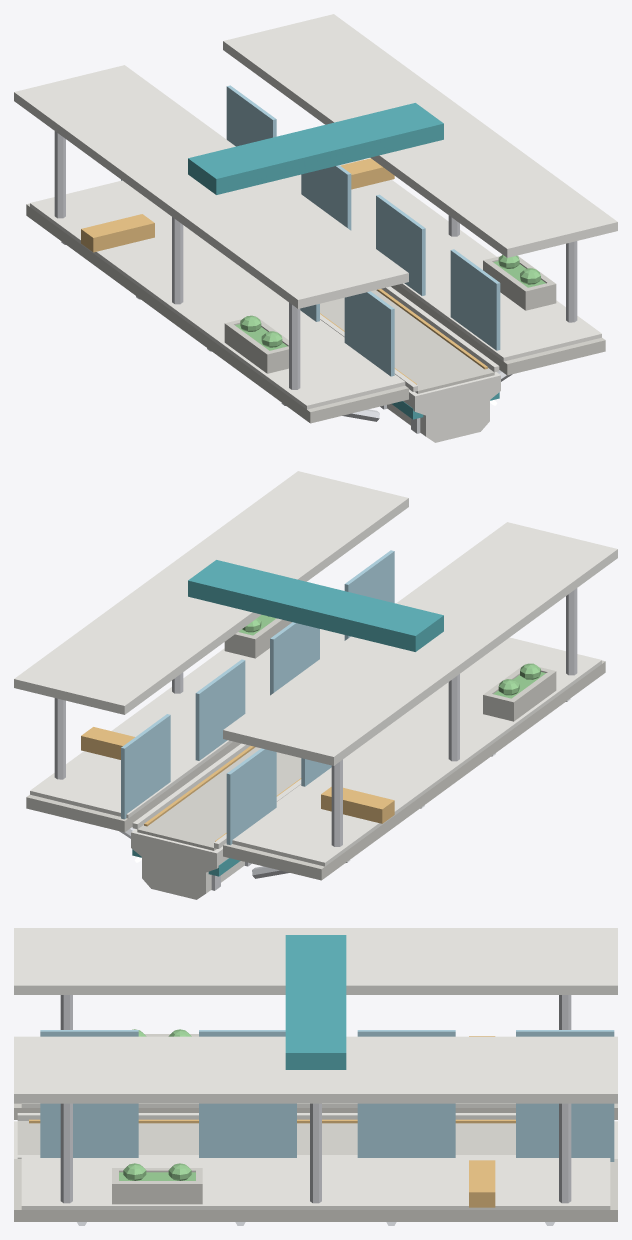
File: arcology-towers-and-skyways-maglev-station-platform-po-032e8532__23260.glb
3 renders of one model, top to bottom at view 1: azimuth 30°, elevation 25°; view 2: azimuth 150°, elevation 25°; view 3: azimuth 270°, elevation 25°, orthographic. The views are drawn at different scales.
Parts seen in each view (by area): view 1: maglev-station-platform-pod; view 2: maglev-station-platform-pod; view 3: maglev-station-platform-pod.
Boxes of the visible parts, box(x1,y1,x2,y2) form: maglev-station-platform-pod: box(14, 14, 617, 442); maglev-station-platform-pod: box(14, 471, 617, 899); maglev-station-platform-pod: box(14, 928, 617, 1225).
Size of the model in its own units: 10.4 by 5.98 by 16.
